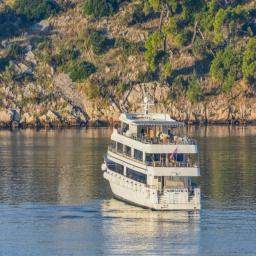cruises: (102, 95, 205, 215)
